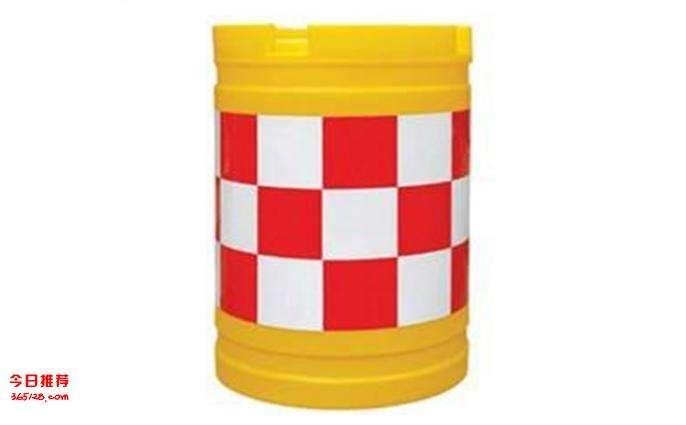sign: (197, 17, 479, 410)
